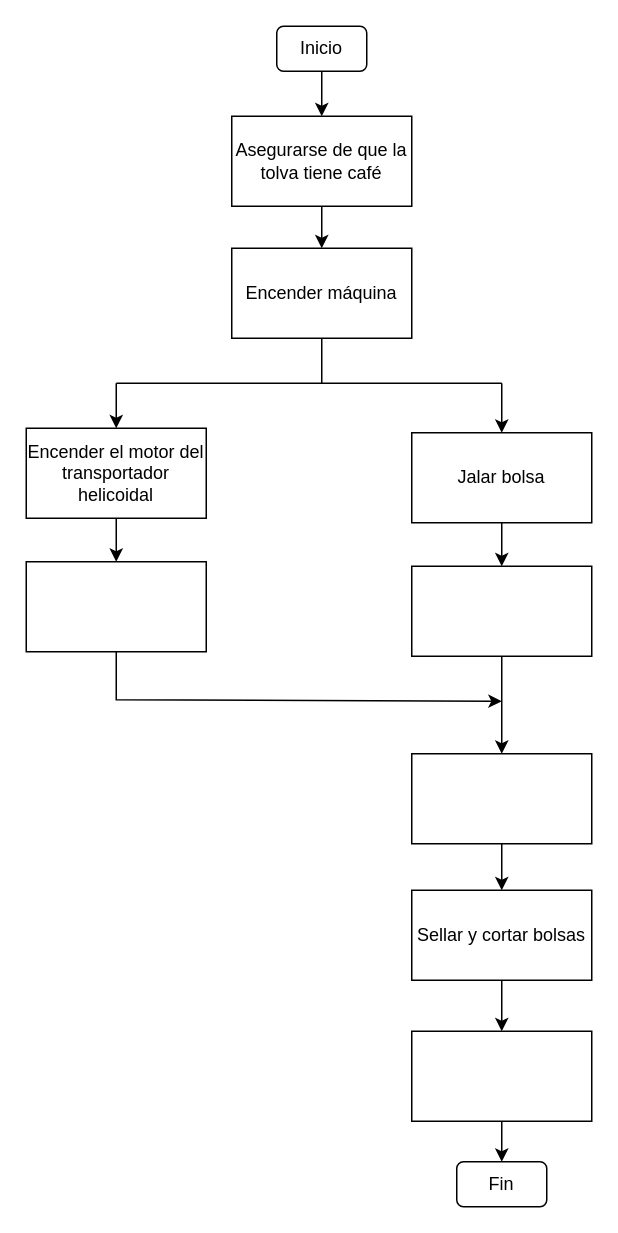
Image size: 618x1233. Some labels were removed from this diagram. Here are the shapes that lost their labels. From the top down, the box of each, then its label:
(25, 560, 206, 652): Dosificar el café en 1kg
(410, 565, 592, 656): Colocar válvula desgasficadora
(410, 752, 592, 844): Llenar el café en la bolsa
(410, 1030, 592, 1121): Contabilizar paquetes y mostrar información en la app
